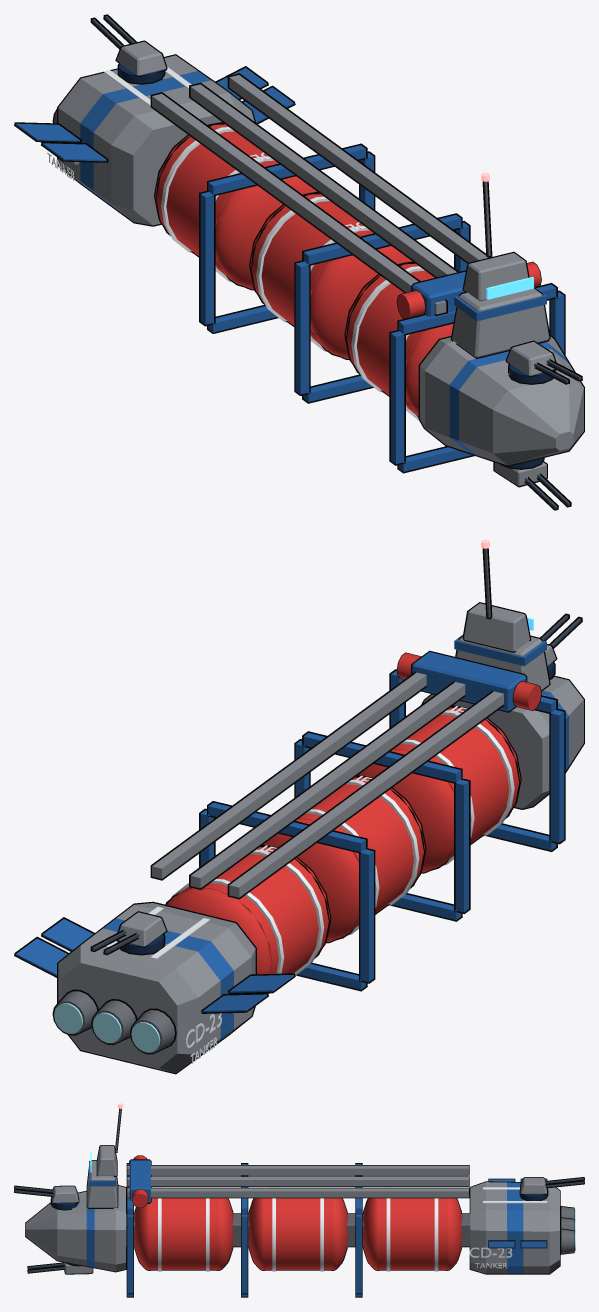
Rendered from Cargo_Destroyer_Tanker.fbx.
3 renders of one model, top to bottom at view 1: azimuth 30°, elevation 25°; view 2: azimuth 150°, elevation 25°; view 3: azimuth 270°, elevation 25°, orthographic. The views are drawn at different scales.
Visible parts, largest first — view 1: Bow.002, Engine.002, Pipe-4.75, Pipe0, Pipe4.75, TankFrame2, Tank10, TankFrame0, Tank20, TankFrame1, Bridge_A.002, Tank00 (+15 smaller); view 2: Engine.002, Pipe-4.75, Pipe4.75, Pipe0, Tank20, Bow.002, Tank10, Tank00, TankFrame1, TankFrame2, TankFrame0, Tank10_Cap1 (+22 smaller); view 3: Engine.002, Bow.002, Tank10, Tank20, Tank00, Pipe4.75, Pipe-4.75, Pipe0, Tank10_Cap1, Spine.002, Tank00_Cap1, Tank10_Cap-1 (+19 smaller).
Part boxes in pixels (x1,y1,x2,y2): Bow.002: [418, 334, 584, 466]; Engine.002: [57, 54, 255, 226]; Pipe-4.75: [150, 92, 447, 316]; Pipe0: [189, 82, 458, 277]; Pipe4.75: [227, 73, 488, 263]; TankFrame2: [199, 143, 375, 333]; Tank10: [250, 192, 373, 358]; TankFrame0: [389, 283, 565, 473]; Tank20: [155, 123, 278, 288]; TankFrame1: [294, 213, 470, 403]; Bridge_A.002: [450, 287, 550, 358]; Tank00: [345, 262, 434, 416]; Engine.002: [57, 901, 256, 1074]; Pipe-4.75: [227, 690, 504, 899]; Pipe4.75: [150, 671, 427, 880]; Pipe0: [189, 681, 465, 889]; Tank20: [165, 845, 329, 973]; Bow.002: [421, 676, 584, 809]; Tank10: [298, 776, 424, 941]; Tank00: [394, 706, 520, 872]; TankFrame1: [294, 731, 470, 921]; TankFrame2: [199, 801, 375, 991]; TankFrame0: [389, 669, 565, 851]; Tank10_Cap1: [263, 819, 358, 943]; Engine.002: [469, 1181, 560, 1274]; Bow.002: [25, 1185, 126, 1272]; Tank10: [264, 1198, 331, 1270]; Tank20: [378, 1198, 445, 1270]; Tank00: [150, 1198, 217, 1270]; Pipe4.75: [126, 1187, 469, 1198]; Pipe-4.75: [126, 1165, 469, 1175]; Pipe0: [126, 1176, 469, 1186]; Tank10_Cap1: [329, 1198, 348, 1270]; Spine.002: [126, 1213, 470, 1247]; Tank00_Cap1: [215, 1198, 233, 1270]; Tank10_Cap-1: [248, 1198, 266, 1270].
Size of the model in its own units: 28.6 by 33.35 by 101.
